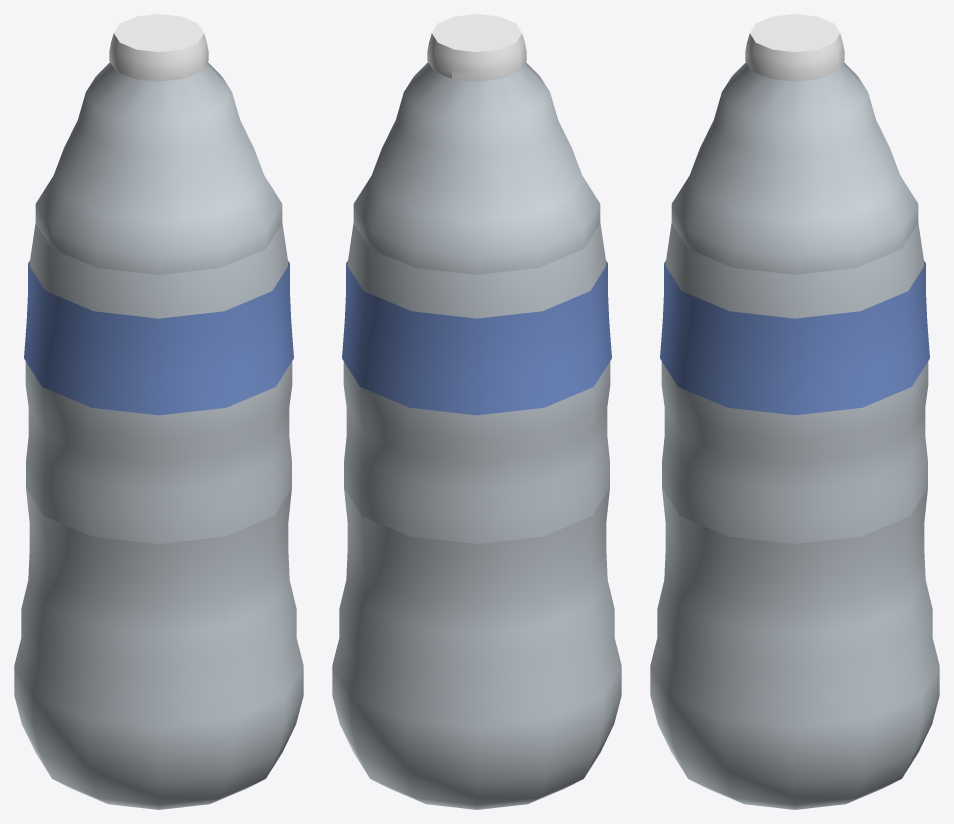
Rendered from water.fbx.
The picture shows the model from 3 angles, left to right: view 1: azimuth 30°, elevation 25°; view 2: azimuth 150°, elevation 25°; view 3: azimuth 270°, elevation 25°; orthographic projection.
Parts seen in each view (by area): view 1: Water; view 2: Water; view 3: Water.
Part boxes in pixels (bbox=[...]): Water: bbox=[14, 14, 303, 809]; Water: bbox=[332, 14, 621, 809]; Water: bbox=[650, 14, 939, 809].
Size of the model in its own units: 0.5746 by 1.64 by 0.5746.
